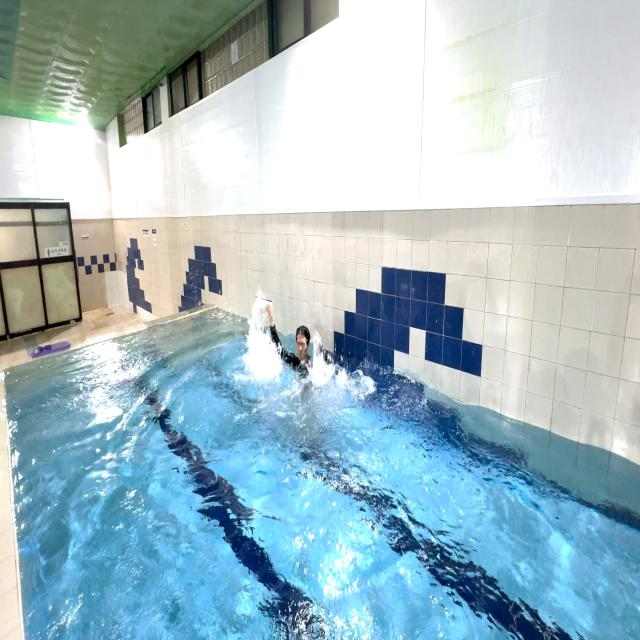Drowning: (245, 292, 340, 398)
